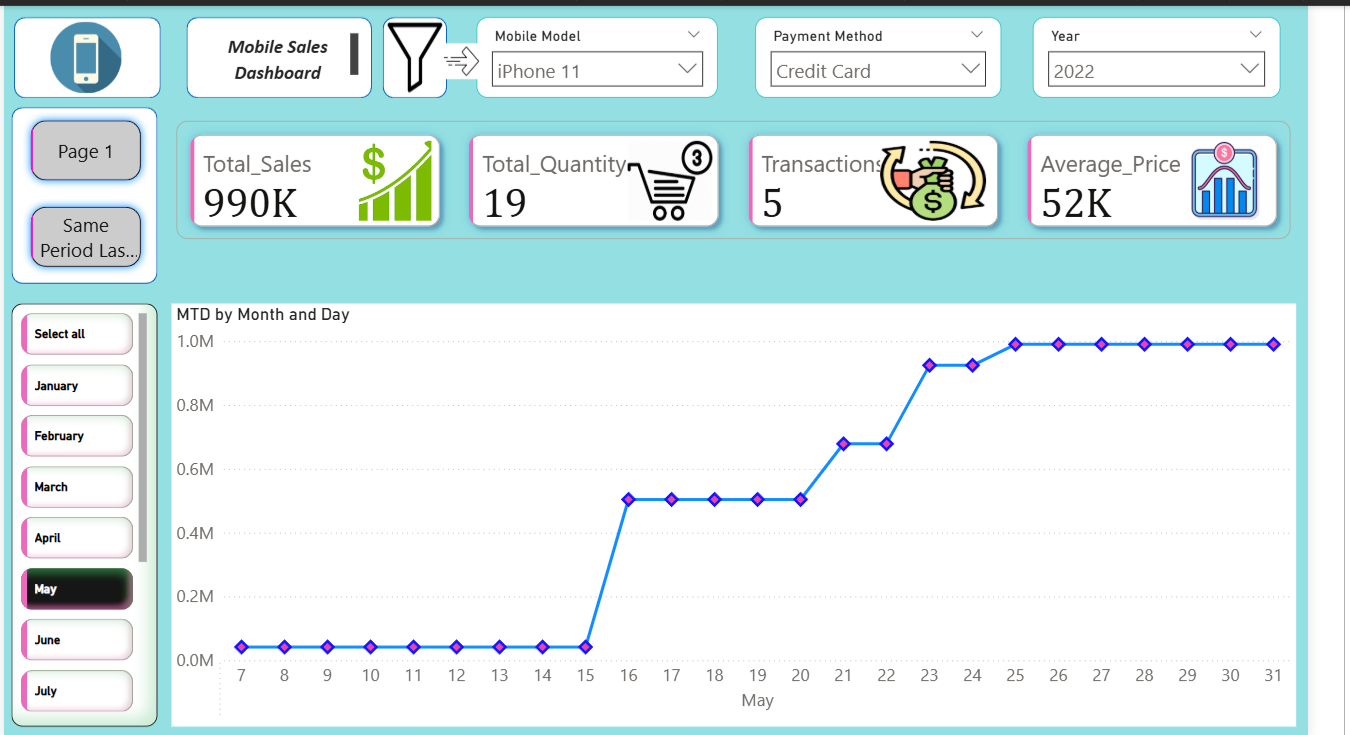

Layout of this report page (visuals, bound fields, positions):
{"tool":"powerbi","page":{"name":"MTD Report","canvas":[1280,720],"ordinal":1},"visuals":[{"type":"shape","box":[9.6,11,144.1,79.6],"z":0},{"type":"shape","box":[7.8,100,143.3,173.3],"z":1000},{"type":"cardVisual","fields":{"Data":["Mobile_Sales.Total_Sales","Mobile_Sales.Total_Quantity","Mobile_Sales.Transactions","Mobile_Sales.Average_Price"]},"box":[164.7,108.4,1103.3,126.2],"z":2000},{"type":"image","box":[343.1,127.6,81,87.8],"z":3000},{"type":"image","box":[607.9,127.6,93.3,87.8],"z":4000},{"type":"image","box":[854.9,127.6,113.9,87.8],"z":5000},{"type":"image","box":[1155.4,127.6,86.4,87.8],"z":6000},{"type":"slicer","fields":{"Values":["Mobile_Sales.Mobile Model"]},"box":[464.1,11.5,237.2,79.5],"z":7000},{"type":"slicer","fields":{"Values":["Mobile_Sales.Payment Method"]},"box":[736.9,11,241.5,79.6],"z":8000},{"type":"slicer","fields":{"Values":["Custom_Calander.Column1.Variation.Date Hierarchy.Year"]},"box":[1010,11,242.9,79.6],"z":9000},{"type":"shape","box":[371.9,11,63.1,79.6],"z":10000},{"type":"image","box":[371.9,11,63.1,79.6],"z":11000},{"type":"image","box":[424.4,32.1,48.7,44.9],"z":12000},{"type":"shape","box":[179.5,11.5,182.1,79.5],"z":13000},{"type":"textbox","box":[192.3,21.8,160.3,55.1],"z":14000},{"type":"image","box":[17.9,11.5,124.4,79],"z":15000},{"type":"lineChart","fields":{"Category":["Custom_Calander.Column1.Variation.Date Hierarchy.Month","Custom_Calander.Column1.Variation.Date Hierarchy.Day"],"Y":["Mobile_Sales.MTD"]},"box":[164.1,292.3,1103.8,415.4],"z":16000},{"type":"advancedSlicerVisual","fields":{"Values":["Custom_Calander.Column1.Variation.Date Hierarchy.Month"]},"box":[7.7,292.3,143.6,415.4],"z":17000},{"type":"pageNavigator","box":[17.9,103.8,124.4,160.3],"z":18000}]}

Visuals, with their boxes on the page's 1280x720 design canvas (x1, y1, x2, y2). These are canvas units, not pixel positions in the 1350x735 screenshot, which may show the page scaled, cropped or inside an application window:
shape: 10:11:154:91
shape: 8:100:151:273
cardVisual - Mobile_Sales.Total_Sales x Mobile_Sales.Total_Quantity: 165:108:1268:235
image: 343:128:424:215
image: 608:128:701:215
image: 855:128:969:215
image: 1155:128:1242:215
slicer - Mobile_Sales.Mobile Model: 464:12:701:91
slicer - Mobile_Sales.Payment Method: 737:11:978:91
slicer - Custom_Calander.Column1.Variation.Date Hierarchy.Year: 1010:11:1253:91
shape: 372:11:435:91
image: 372:11:435:91
image: 424:32:473:77
shape: 180:12:362:91
textbox: 192:22:353:77
image: 18:12:142:90
lineChart - Custom_Calander.Column1.Variation.Date Hierarchy.Month x Custom_Calander.Column1.Variation.Date Hierarchy.Day: 164:292:1268:708
advancedSlicerVisual - Custom_Calander.Column1.Variation.Date Hierarchy.Month: 8:292:151:708
pageNavigator: 18:104:142:264
